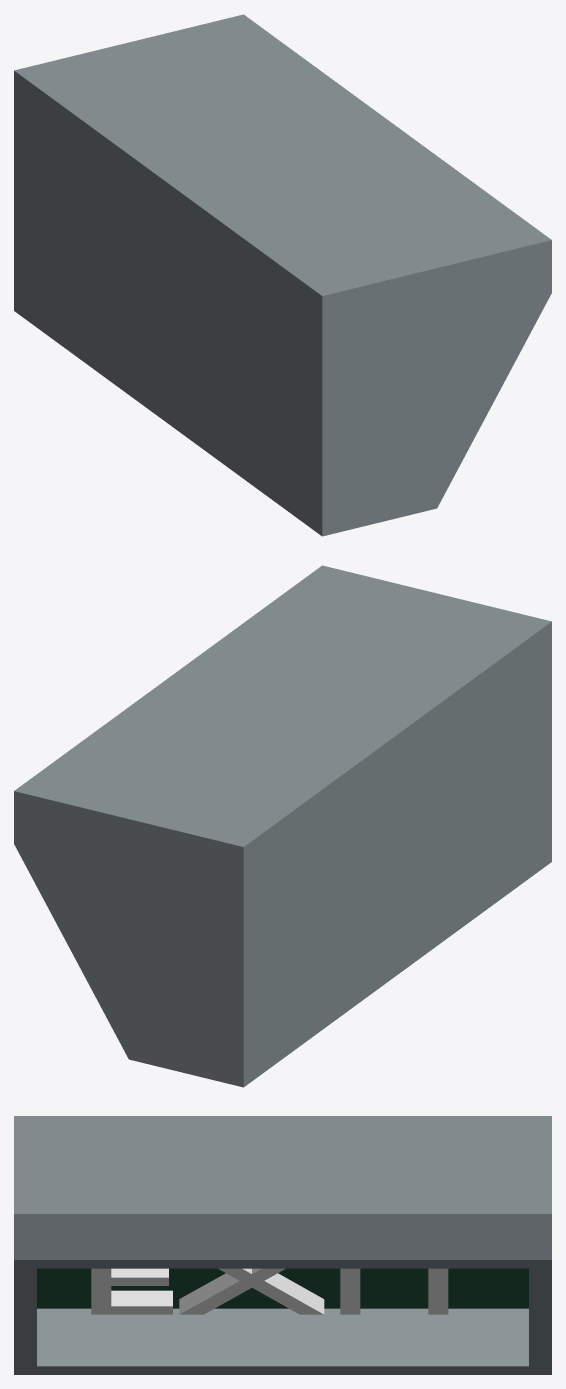
Rendered from exit_sign.fbx.
3 views of the same model, one above another, from view 1: azimuth 30°, elevation 25°; view 2: azimuth 150°, elevation 25°; view 3: azimuth 270°, elevation 25° (orthographic). The views are drawn at different scales.
Parts seen in each view (by area): view 1: exit sign; view 2: exit sign; view 3: exit sign, exit text.
Boxes of the visible parts, bbox=[...] form: exit sign: bbox=[14, 14, 551, 536]; exit sign: bbox=[14, 565, 551, 1087]; exit sign: bbox=[14, 1116, 551, 1374]; exit text: bbox=[91, 1268, 448, 1314].
Size of the model in its own units: 30 by 30 by 69.72.
